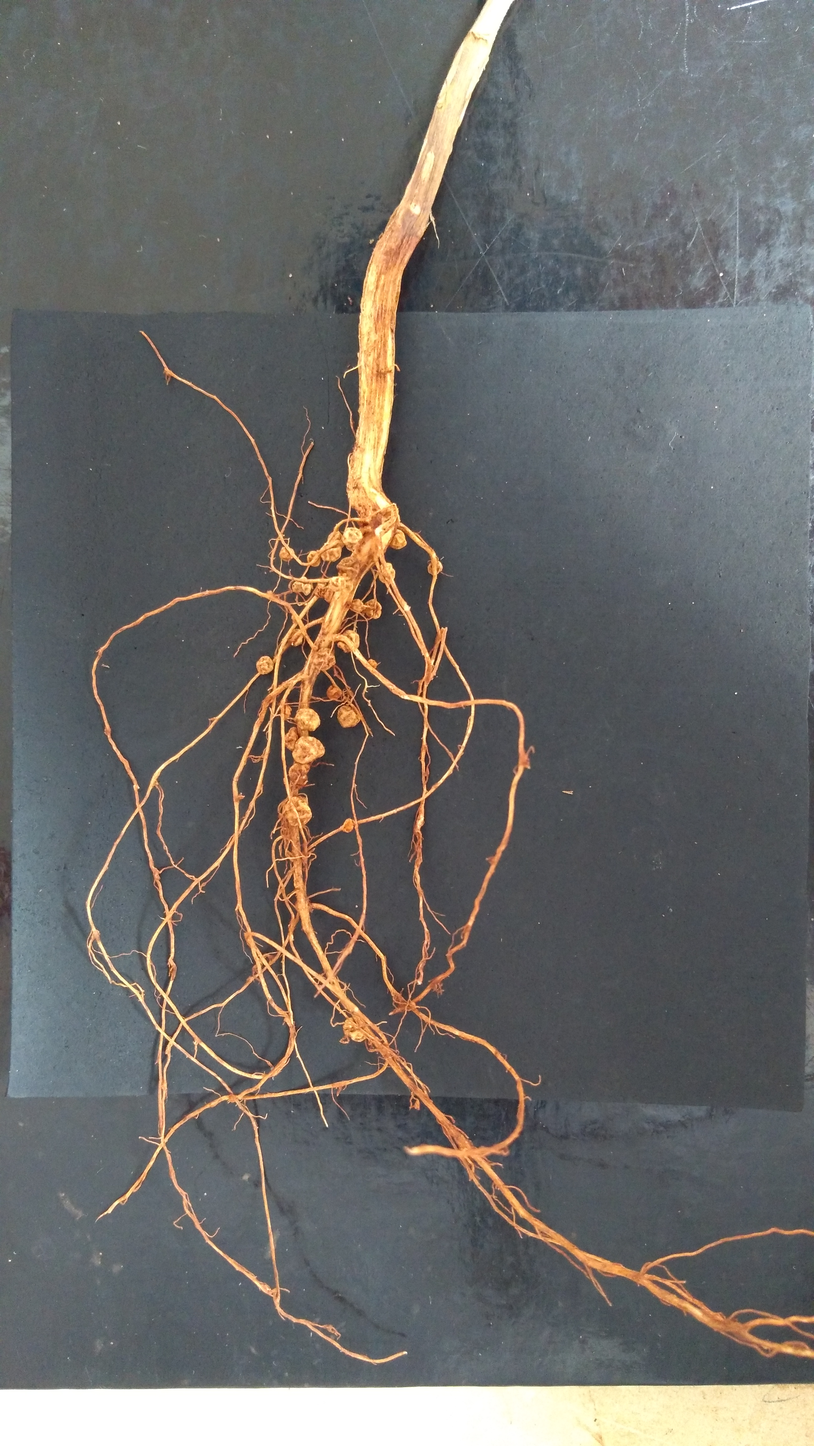nodule: (292, 736, 326, 766), (285, 796, 313, 827), (342, 1016, 369, 1043), (293, 707, 321, 732), (336, 629, 360, 654), (312, 647, 337, 671), (376, 505, 400, 530), (335, 556, 360, 579), (288, 762, 311, 787), (341, 527, 364, 551), (337, 705, 361, 728), (291, 576, 313, 595), (284, 727, 300, 752), (377, 562, 396, 583), (364, 598, 382, 620), (295, 894, 314, 914), (389, 529, 407, 550), (256, 656, 274, 675), (288, 628, 305, 647), (314, 577, 329, 598), (327, 531, 345, 548), (426, 560, 443, 576), (329, 576, 346, 592), (326, 684, 342, 701), (306, 550, 321, 568), (348, 598, 366, 613), (279, 546, 295, 562), (279, 703, 292, 721), (341, 818, 355, 834), (343, 578, 354, 593), (324, 588, 334, 603), (352, 543, 362, 554), (368, 658, 378, 669), (227, 1093, 236, 1103), (290, 613, 298, 624), (265, 589, 273, 597)
